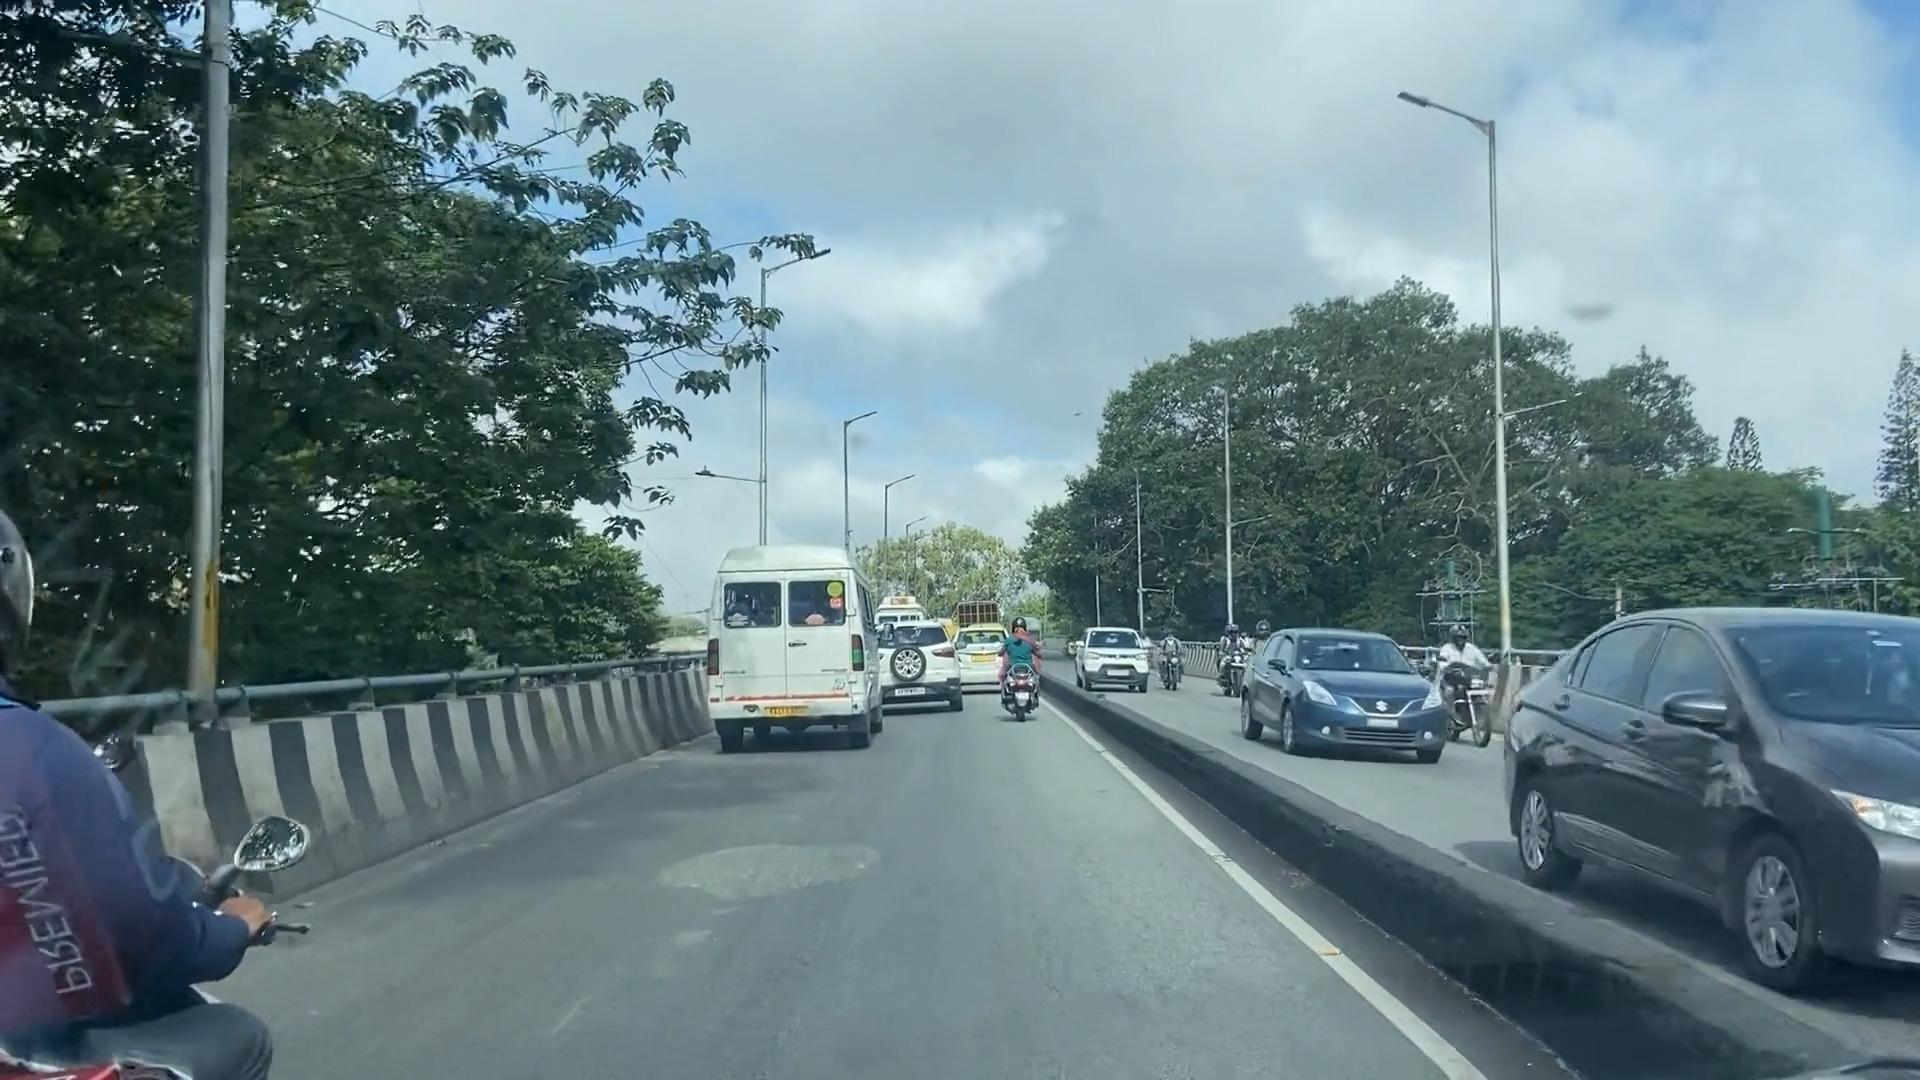HMV: (711, 550, 865, 740)
LMV: (1001, 617, 1034, 723)
RoadDamages: (646, 831, 891, 911)
